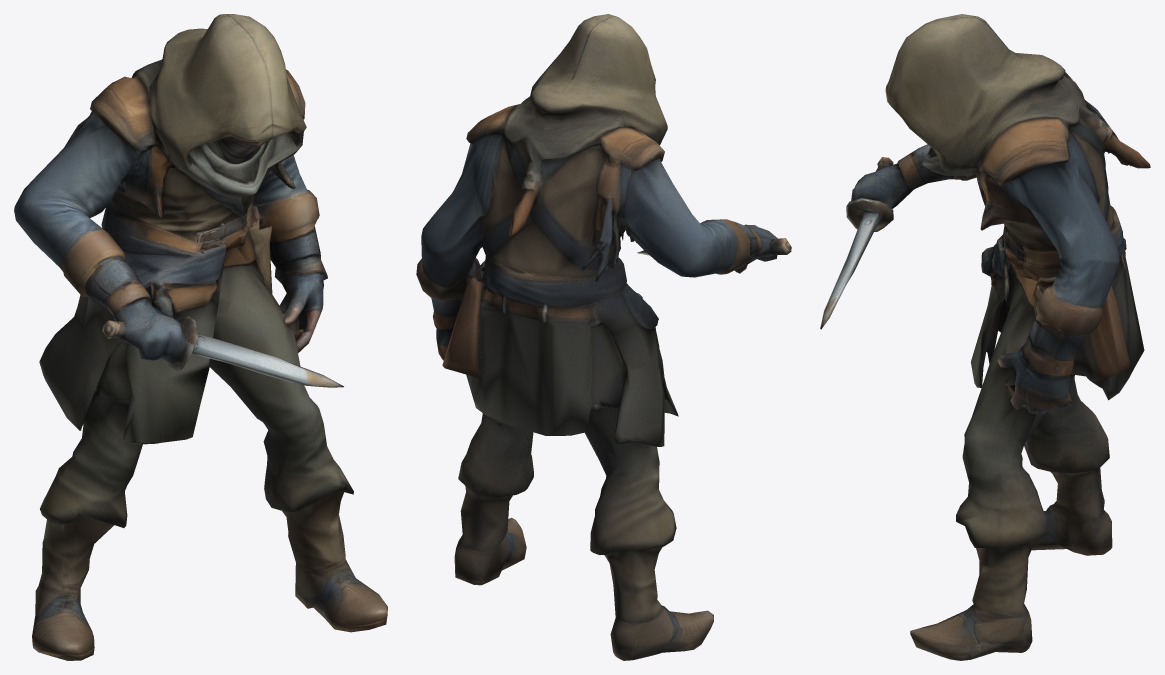
The model's file is bandit.glb.
3 views of the same model, side by side, from view 1: azimuth 30°, elevation 25°; view 2: azimuth 150°, elevation 25°; view 3: azimuth 270°, elevation 25° (orthographic). The views are drawn at different scales.
Size of the model in its own units: 1.05 by 2 by 1.03.
Materials: 1 (1 with a texture image).
